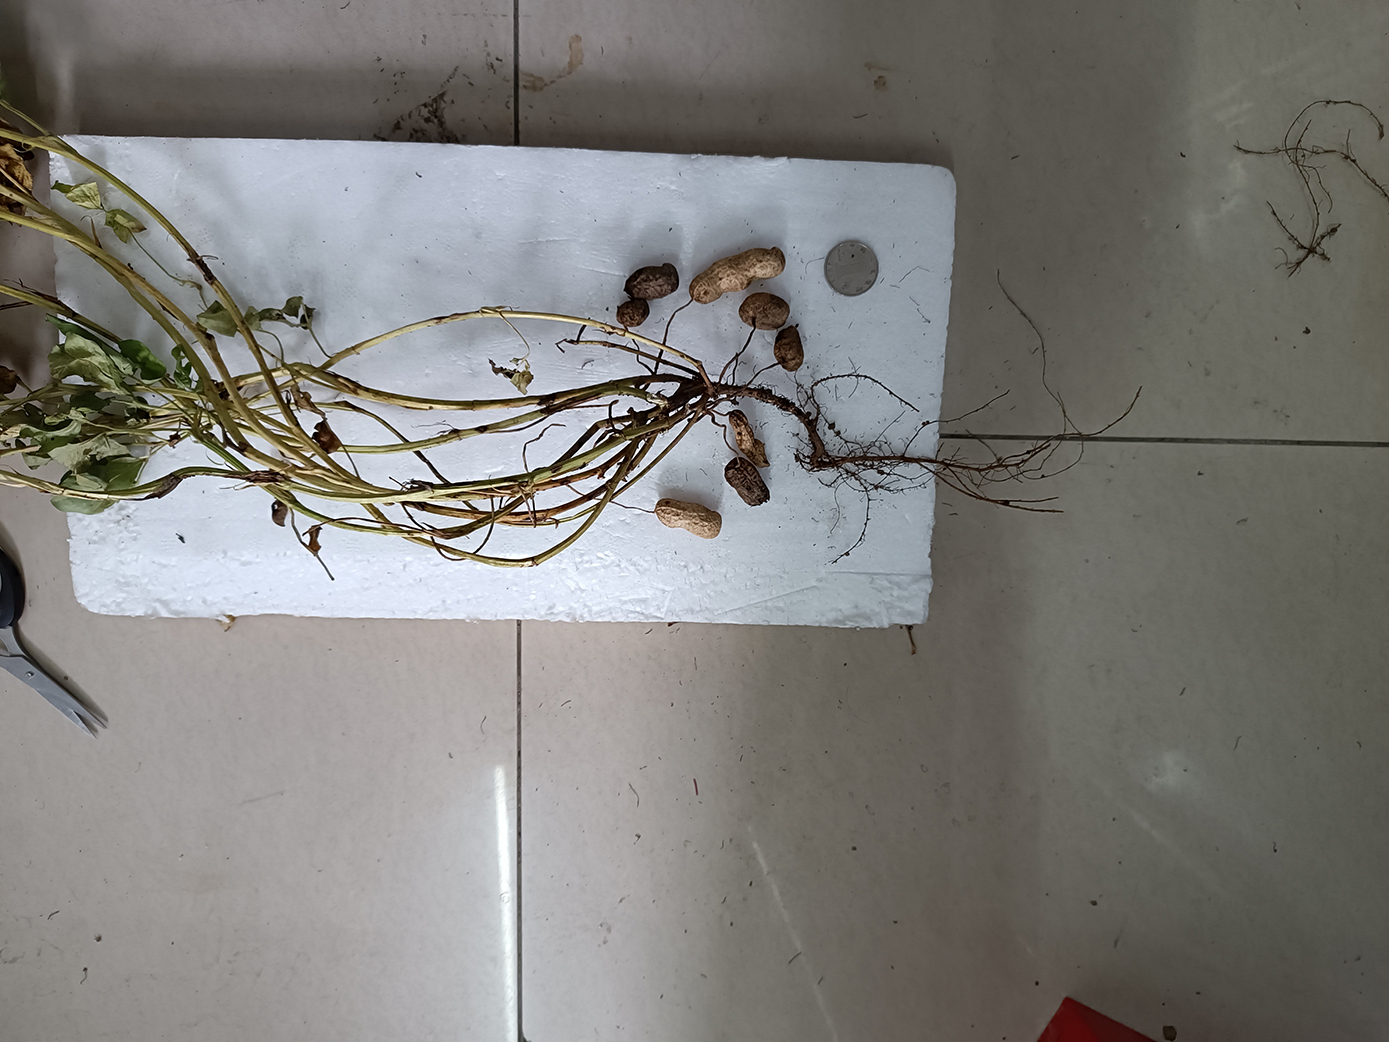h: (687, 247, 785, 303), (653, 496, 721, 540)
l: (730, 410, 771, 468), (725, 459, 769, 507), (624, 262, 679, 300), (738, 292, 790, 329), (772, 323, 805, 371), (616, 299, 649, 327)
